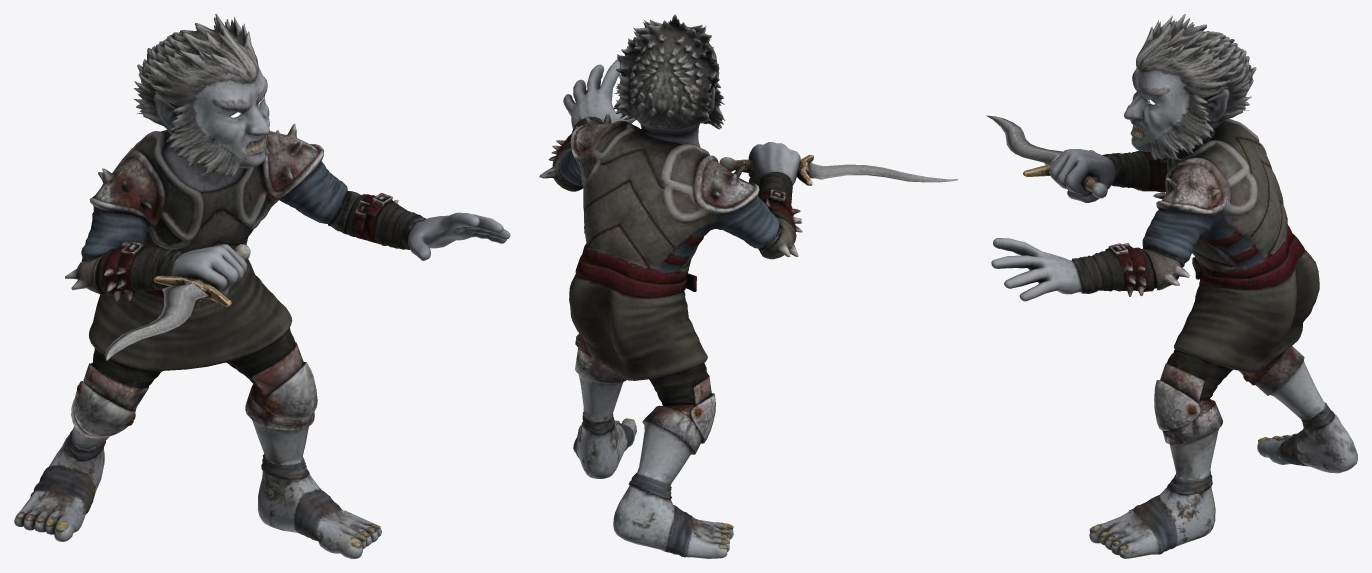
File: MZ4250 - Derro Dagger Fighter.glb
The picture shows the model from 3 angles, left to right: view 1: azimuth 30°, elevation 25°; view 2: azimuth 150°, elevation 25°; view 3: azimuth 270°, elevation 25°; orthographic projection. The views are drawn at different scales.
Visible parts, largest first — view 1: Dagger 3 exotic.001; view 2: Dagger 3 exotic.001; view 3: Dagger 3 exotic.001.
Part boxes in pixels (x1,y1,x2,y2): Dagger 3 exotic.001: (14, 14, 510, 558); Dagger 3 exotic.001: (539, 14, 957, 558); Dagger 3 exotic.001: (986, 14, 1357, 558).
Size of the model in its own units: 0.5213 by 0.6246 by 0.437.
1 material, 1 textured.
